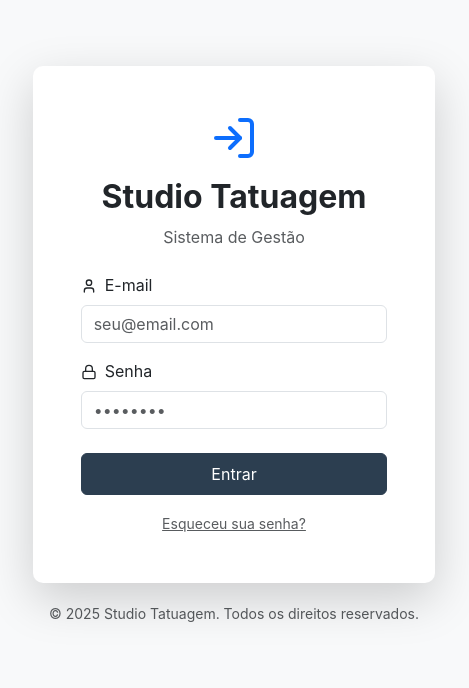
Test: Login - Falhas esperadas › Senha errada
Step 1. Type "admin@admin.com" into the field named "email" → [235, 324], box 81,305 -> 388,343
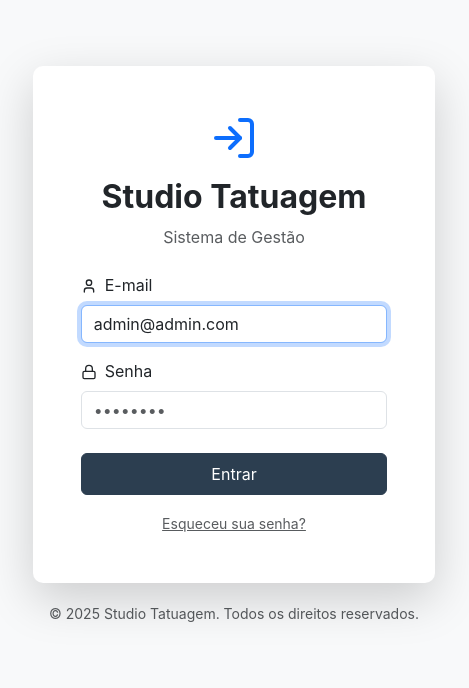
Step 2. Type "senha_errada" into the password field named "senha" → [235, 410], box 81,391 -> 388,429
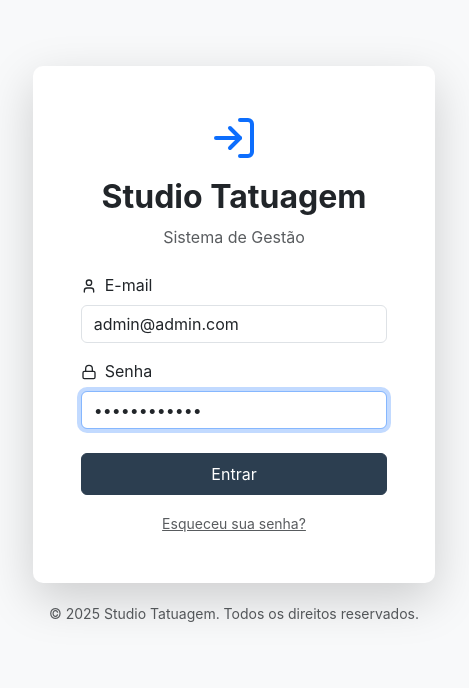
Step 3. Click the submit button → [235, 474], box 81,453 -> 388,495
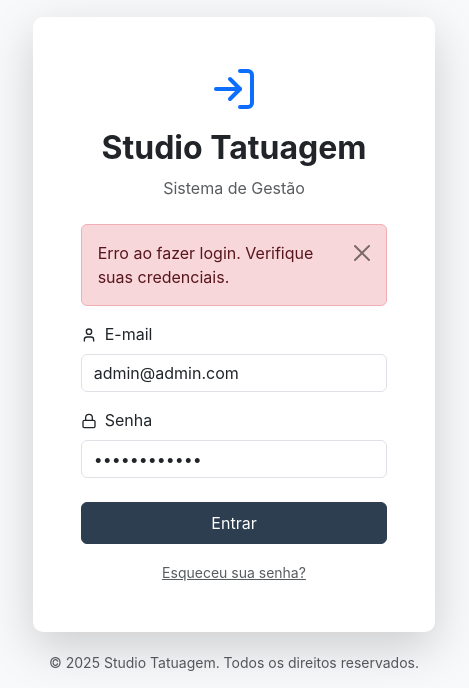
Expected: the text "Erro ao fazer login" is shown, 98,243 -> 314,287
